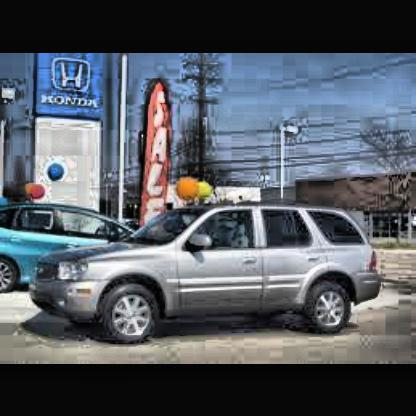Buick Rainier SUV 2007: (35, 204, 386, 348)
